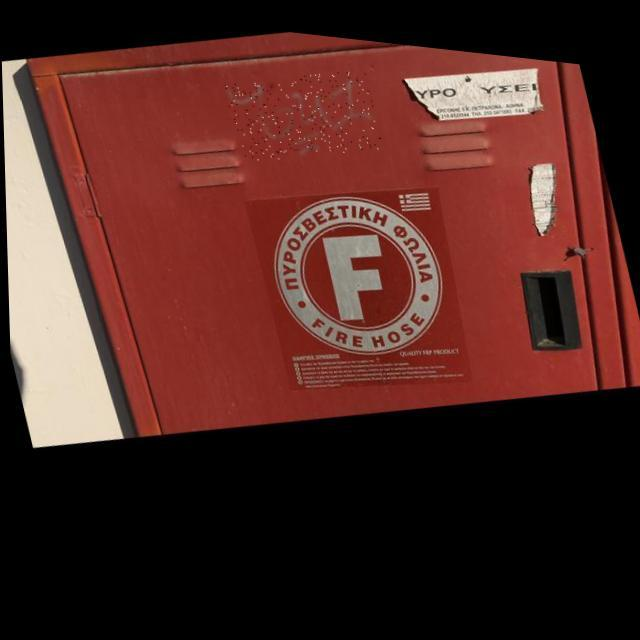-: (222, 49, 382, 170)
